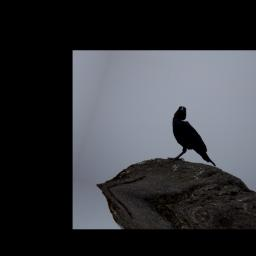Crow: (160, 104, 230, 172)
